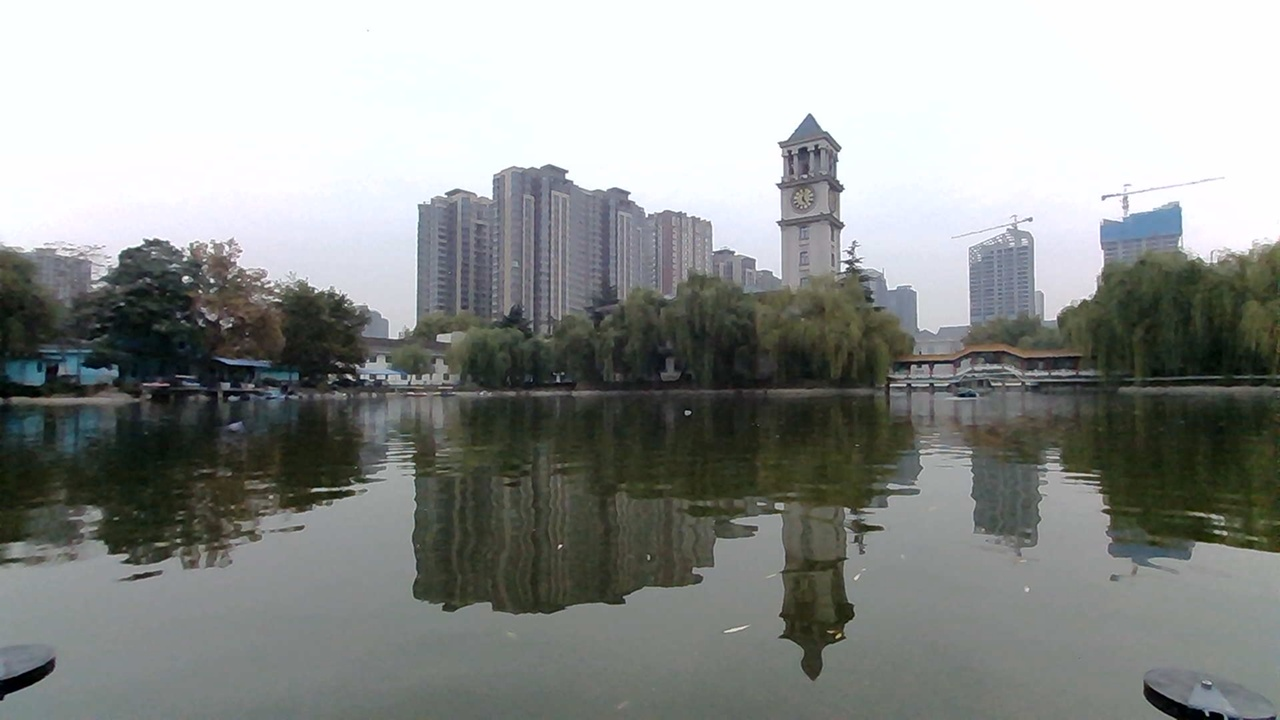bottle: (221, 415, 269, 449), (669, 392, 701, 419)
